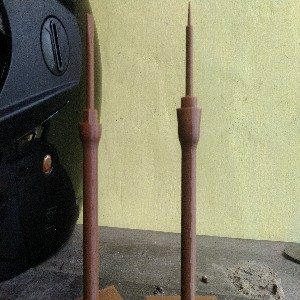obeng: (78, 13, 103, 300)
solder: (176, 1, 203, 300)
